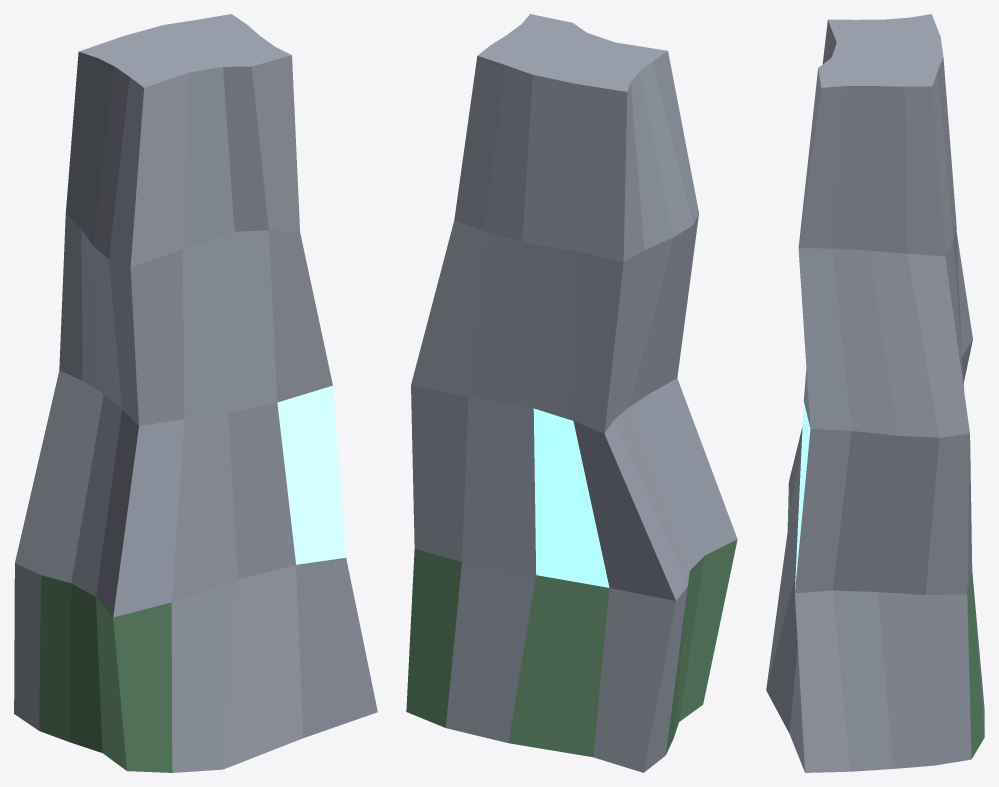
File: Standing_Stone_B.glb
The picture shows the model from 3 angles, left to right: view 1: azimuth 30°, elevation 25°; view 2: azimuth 150°, elevation 25°; view 3: azimuth 270°, elevation 25°; orthographic projection. The views are drawn at different scales.
Parts seen in each view (by area): view 1: Standing_Stone_B; view 2: Standing_Stone_B; view 3: Standing_Stone_B.
Part boxes in pixels (box(x1,y1,x2,y2)): Standing_Stone_B: box(14, 14, 377, 772); Standing_Stone_B: box(406, 14, 737, 772); Standing_Stone_B: box(766, 14, 984, 772).
Size of the model in its own units: 1.54 by 3.4 by 1.04.
